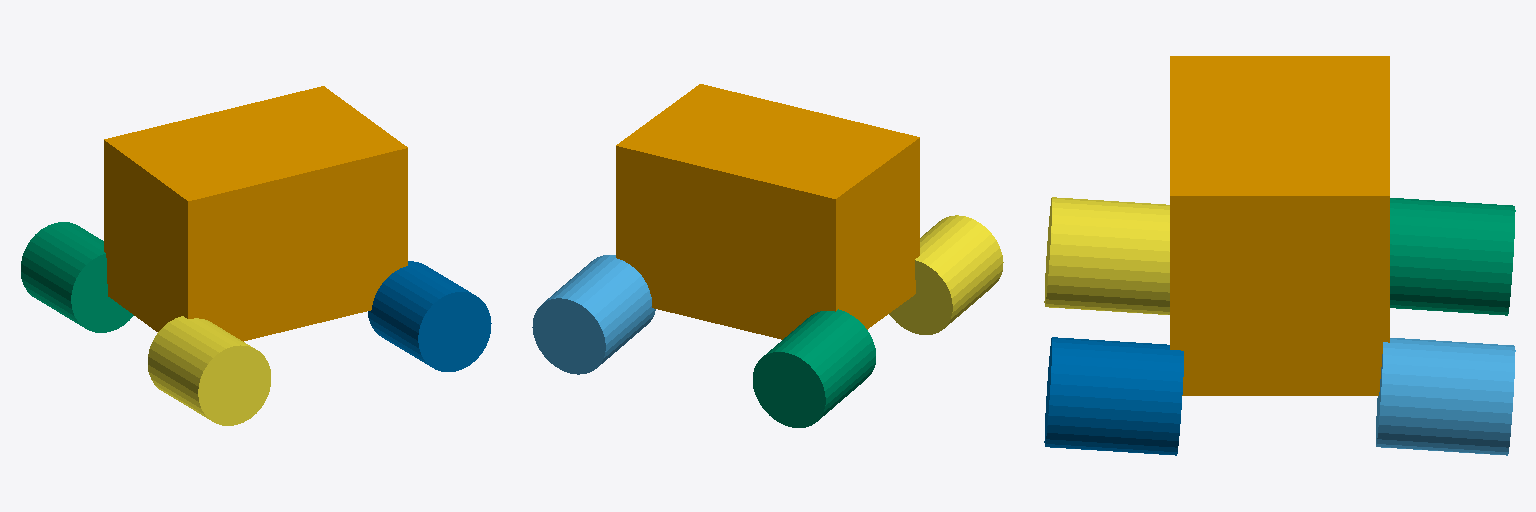
The robot description file, URDF, robot "roboCar":
<?xml version="1.0"?>
<robot name="roboCar">
    <link name="base_link">
        <visual>
            <geometry>
                <box size="1.5 1 1" />
            </geometry>
        </visual>
        <collision>
            <geometry>
                <box size="1.5 1 1" />
            </geometry>
        </collision>
        <inertial>
            <mass value="0.25"/>
            <inertia ixx="0.0003" iyy="0.0003" izz="0.0003" ixy="0" ixz="0" iyz="0"/>
        </inertial>
    </link>
    <link name="frwheel_link">
        <visual>
            <geometry>
                <cylinder length="0.6" radius="0.25"/>
            </geometry>
        </visual>
        <collision>
            <geometry>
                <cylinder length="0.6" radius="0.25"/>
            </geometry>
        </collision>
        <inertial>
            <mass value="0.25"/>
            <inertia ixx="0.0003" iyy="0.0003" izz="0.0003" ixy="0" ixz="0" iyz="0"/>
        </inertial>
    </link>
    <link name="rrwheel_link">
        <visual>
            <geometry>
                <cylinder length="0.6" radius="0.25"/>
            </geometry>
        </visual>
        <collision>
            <geometry>
                <cylinder length="0.6" radius="0.25"/>
            </geometry>
        </collision>
        <inertial>
            <mass value="0.25"/>
            <inertia ixx="0.0003" iyy="0.0003" izz="0.0003" ixy="0" ixz="0" iyz="0"/>
        </inertial>
    </link>
    <link name="rlw">
        <visual>
            <geometry>
                <cylinder length="0.6" radius="0.25"/>
            </geometry>
        </visual>
        <collision>
            <geometry>
                <cylinder length="0.6" radius="0.25"/>
            </geometry>
        </collision>
        <inertial>
            <mass value="0.25"/>
            <inertia ixx="0.0003" iyy="0.0003" izz="0.0003" ixy="0" ixz="0" iyz="0"/>
        </inertial>
    </link>
    <link name="flw">
        <visual>
            <geometry>
                <cylinder length="0.6" radius="0.25"/>
            </geometry>
        </visual>
        <collision>
            <geometry>
                <cylinder length="0.6" radius="0.25"/>
            </geometry>
        </collision>
        <inertial>
            <mass value="0.25"/>
            <inertia ixx="0.0003" iyy="0.0003" izz="0.0003" ixy="0" ixz="0" iyz="0"/>
        </inertial>
    </link>
    <joint name="base_to_sub" type="revolute">
        <parent link="base_link"/>
        <child link="frwheel_link"/>
        <axis xyz="0 0 1"/>
        <limit effort="10" upper="0" lower="10" velocity="1"/>
        <origin rpy="1.5 0 0" xyz="0.75 0.75 -0.5"/>
    </joint>
    <joint name="base_to_sub2" type="revolute">
        <parent link="base_link"/>
        <child link="rrwheel_link"/>
        <axis xyz="0 0 1"/>
        <limit effort="10" upper="0" lower="10" velocity="1"/>
        <origin rpy="1.5 0 0" xyz="-0.75 0.75 -0.5"/>
    </joint>
    <joint name="base_to_sub3" type="revolute">
        <parent link="base_link"/>
        <child link="rlw"/>
        <axis xyz="0 0 1"/>
        <limit effort="10" upper="0" lower="10" velocity="1"/>
        <origin rpy="1.5 0 0" xyz="-0.75 -0.75 -0.5"/>
    </joint>
    <joint name="base_to_sub4" type="revolute">
        <parent link="base_link"/>
        <child link="flw"/>
        <axis xyz="0 0 1"/>
        <limit effort="10" upper="0" lower="10" velocity="1"/>
        <origin rpy="1.5 0 0" xyz="0.75 -0.75 -0.5"/>
    </joint>
</robot>

--- What the picture shows (computed from the rendered views, not written in the file) ---
The picture shows the robot from 3 angles, left to right: view 1: azimuth 30°, elevation 25°; view 2: azimuth 150°, elevation 25°; view 3: azimuth 270°, elevation 25°; orthographic projection.
Model roboCar with 5 links and 4 joints (4 revolute), rooted at base_link, posed all joints at 0.
Links seen in each view (by area): view 1: base_link, rlw, flw, rrwheel_link; view 2: base_link, rrwheel_link, frwheel_link, rlw; view 3: base_link, flw, frwheel_link, rlw, rrwheel_link.
Link boxes in pixels (box(x1,y1,x2,y2)): base_link: box(104, 86, 407, 341); rlw: box(148, 316, 270, 425); flw: box(368, 261, 491, 371); rrwheel_link: box(21, 222, 133, 332); base_link: box(616, 84, 919, 339); rrwheel_link: box(753, 309, 875, 427); frwheel_link: box(532, 255, 655, 374); rlw: box(889, 215, 1003, 334); base_link: box(1170, 56, 1389, 395); flw: box(1044, 337, 1183, 455); frwheel_link: box(1376, 338, 1515, 455); rlw: box(1044, 197, 1169, 314); rrwheel_link: box(1390, 198, 1515, 315).
Bounding box of the posed robot: 2 × 2.13 × 1.27 m (x, y, z).
Geometry: primitives only (box / cylinder / sphere), no mesh files.